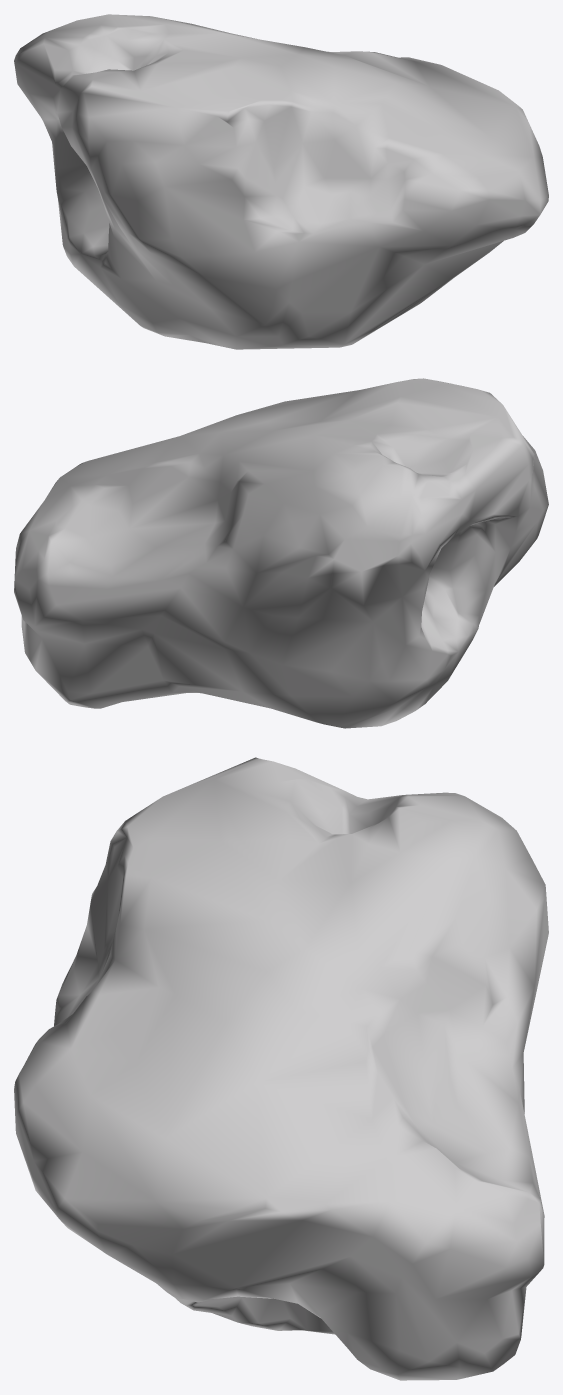
Rendered from MeteroidSample_01.fbx.
3 renders of one model, top to bottom at view 1: azimuth 30°, elevation 25°; view 2: azimuth 150°, elevation 25°; view 3: azimuth 270°, elevation 25°, orthographic. The views are drawn at different scales.
Visible parts, largest first — view 1: MeteroidSample_01; view 2: MeteroidSample_01; view 3: MeteroidSample_01.
Boxes of the visible parts, bbox=[...] form: MeteroidSample_01: bbox=[14, 14, 548, 349]; MeteroidSample_01: bbox=[14, 378, 548, 728]; MeteroidSample_01: bbox=[14, 757, 548, 1380].
Bounding box in the file's own units: 83.08 × 52.53 × 64.11.
